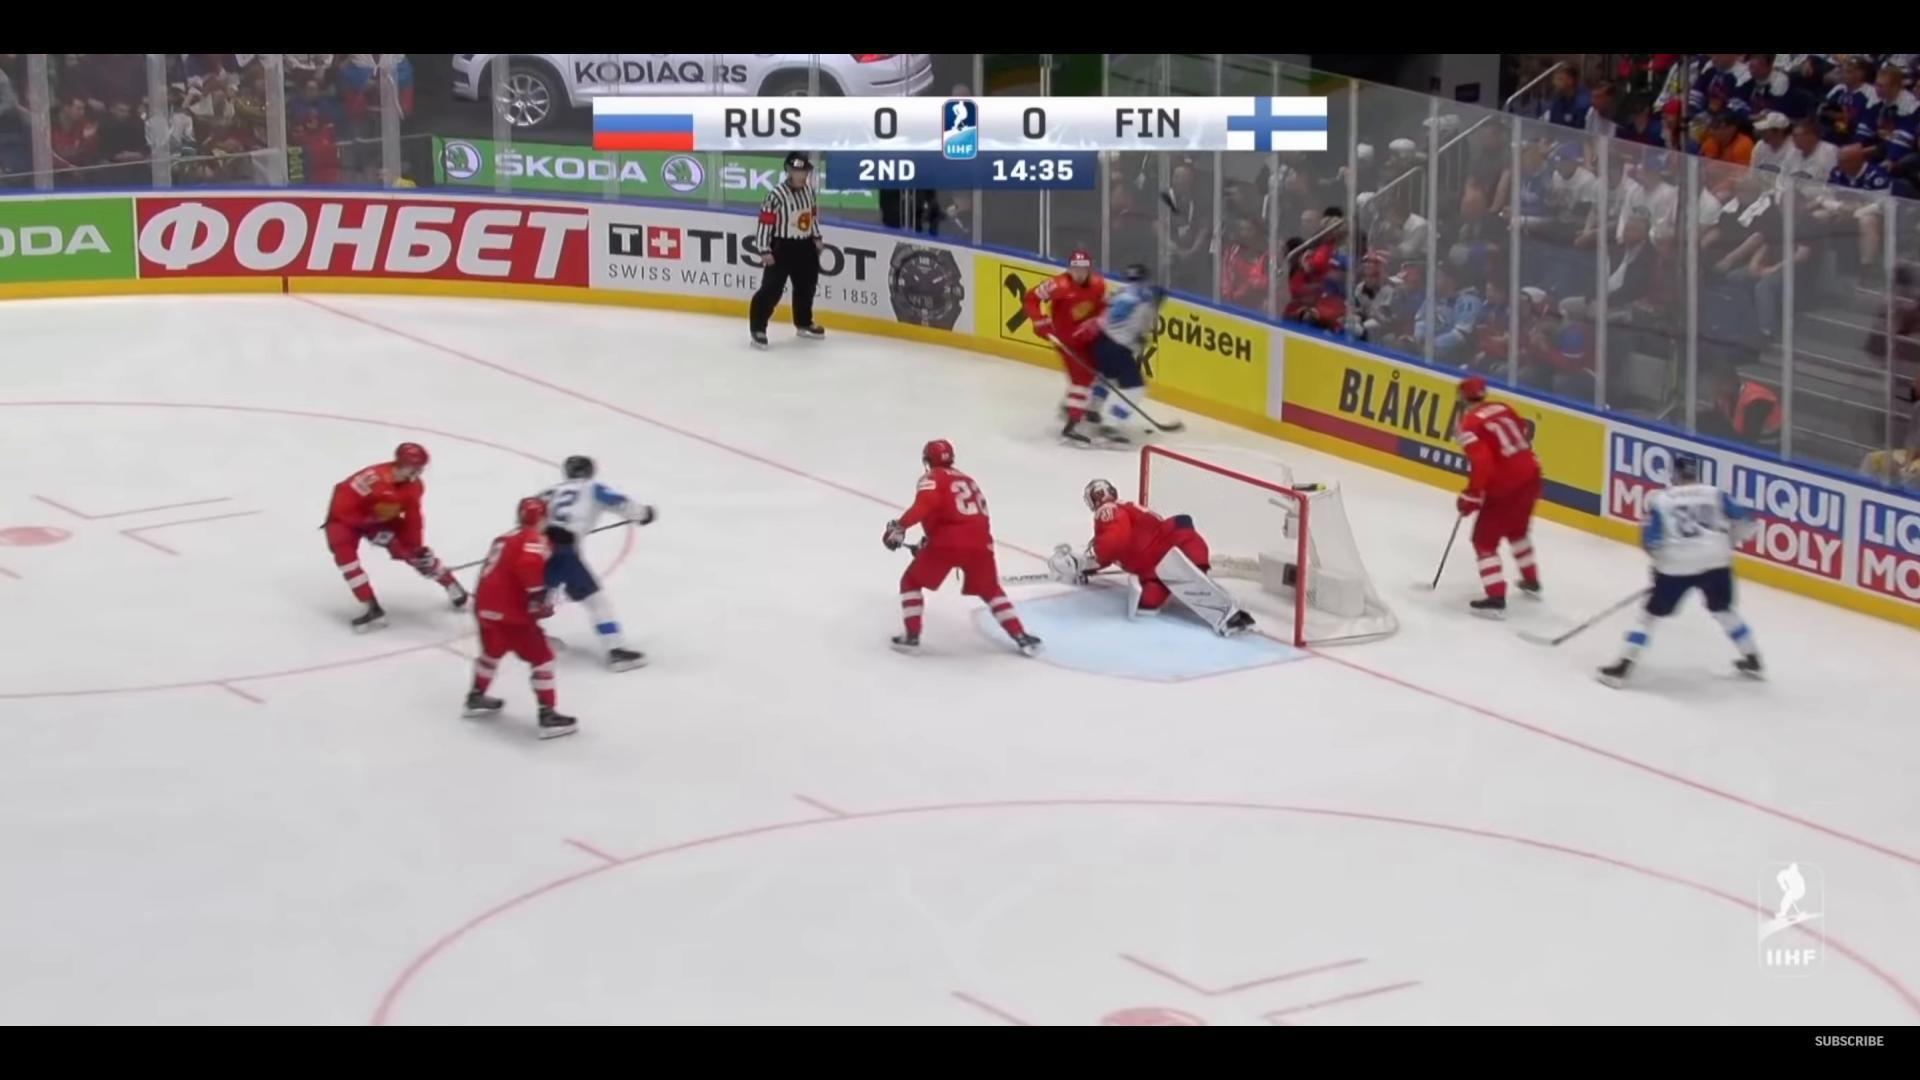puck: (1144, 428, 1153, 434)
